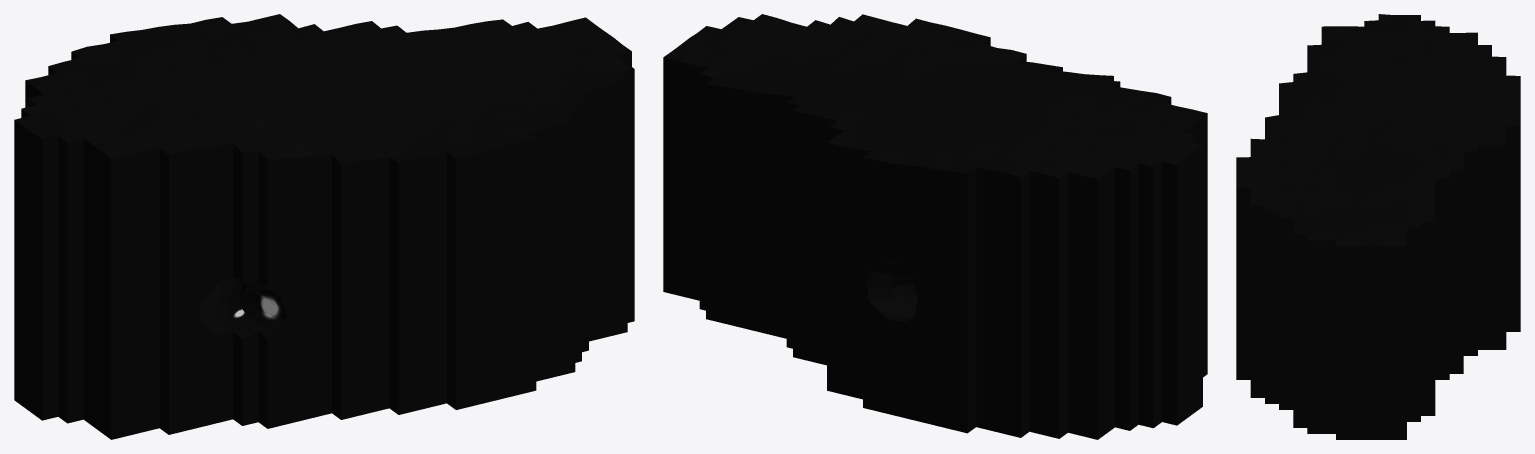
The model's file is mountain.fbx.
The picture shows the model from 3 angles, left to right: view 1: azimuth 30°, elevation 25°; view 2: azimuth 150°, elevation 25°; view 3: azimuth 270°, elevation 25°; orthographic projection. The views are drawn at different scales.
Parts seen in each view (by area): view 1: Plane.001, Plane.003, Plane.002; view 2: Plane.001, Plane.002; view 3: Plane.001.
Boxes of the visible parts, left/top/right/bottom form: Plane.001: left=14, top=14, right=634, bottom=439; Plane.003: left=201, top=277, right=279, bottom=339; Plane.002: left=198, top=281, right=286, bottom=334; Plane.001: left=663, top=14, right=1207, bottom=439; Plane.002: left=866, top=259, right=917, bottom=309; Plane.001: left=1236, top=14, right=1520, bottom=439.
Bounding box in the file's own units: 11667 × 5605 × 6667.
